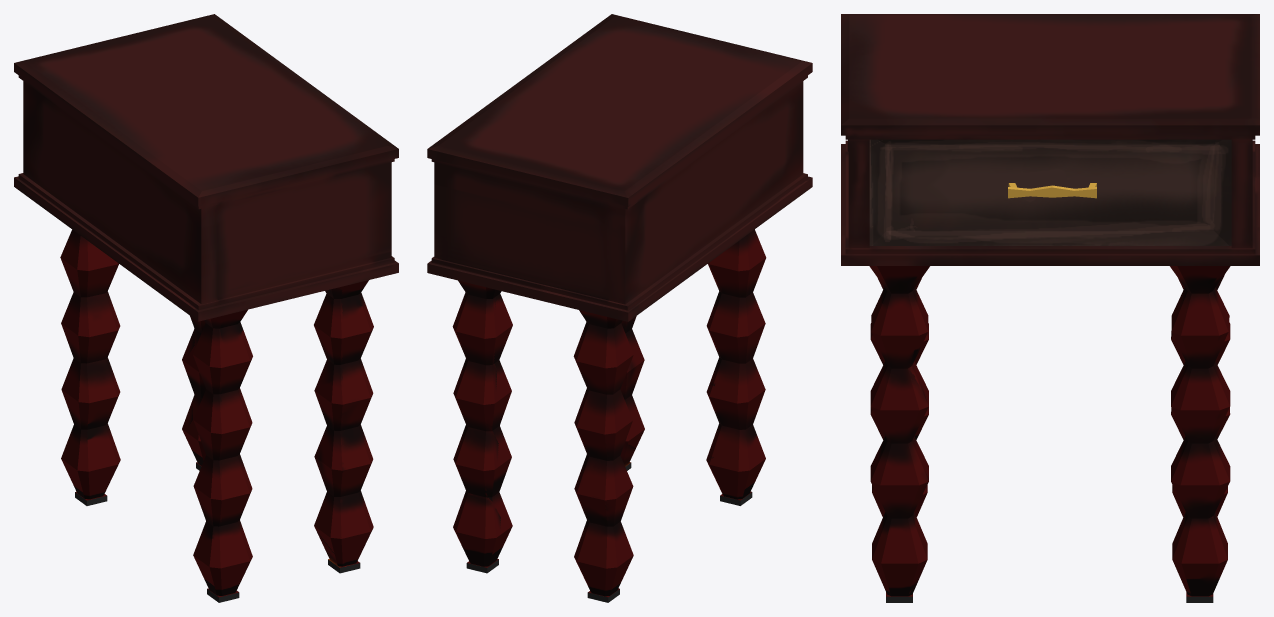
The model's file is Drawer2new.fbx.
3 views of the same model, side by side, from view 1: azimuth 30°, elevation 25°; view 2: azimuth 150°, elevation 25°; view 3: azimuth 270°, elevation 25° (orthographic). The views are drawn at different scales.
Parts seen in each view (by area): view 1: Cube.004, Cube.003; view 2: Cube.004, Cube.003; view 3: Cube.004, Cube.005, Cube.003.
Part boxes in pixels (bbox=[...]): Cube.004: bbox=[14, 14, 398, 321]; Cube.003: bbox=[60, 229, 373, 602]; Cube.004: bbox=[427, 14, 812, 321]; Cube.003: bbox=[452, 229, 766, 602]; Cube.004: bbox=[841, 14, 1259, 265]; Cube.005: bbox=[869, 139, 1231, 245]; Cube.003: bbox=[869, 266, 1230, 602].
Bounding box in the file's own units: 129 × 258 × 200.
